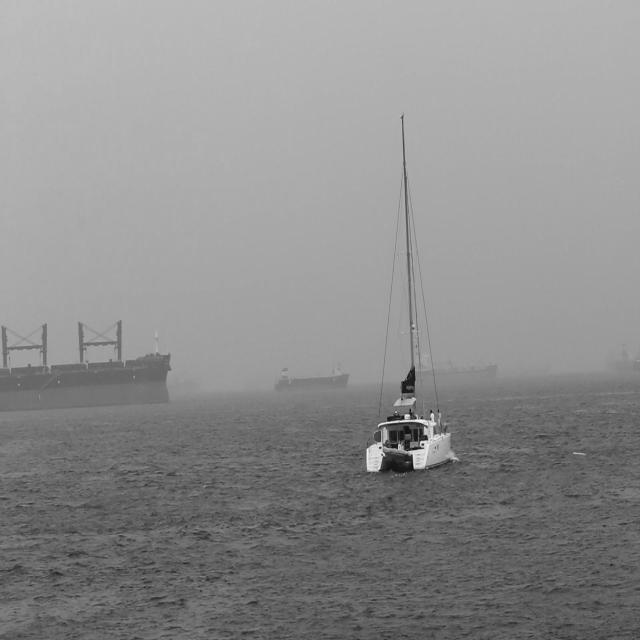ship: (364, 112, 452, 476), (1, 320, 170, 404), (407, 353, 496, 381), (275, 364, 351, 389), (612, 342, 638, 376)
